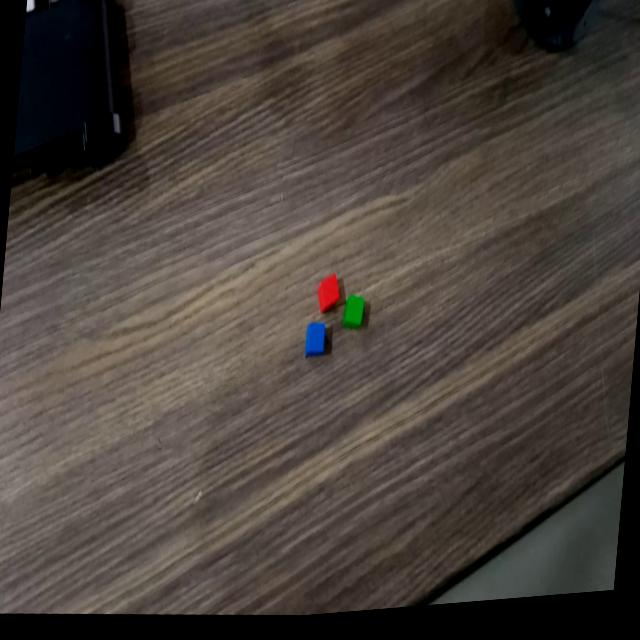cube: (339, 294, 370, 340), (314, 274, 343, 323), (300, 321, 329, 366)
